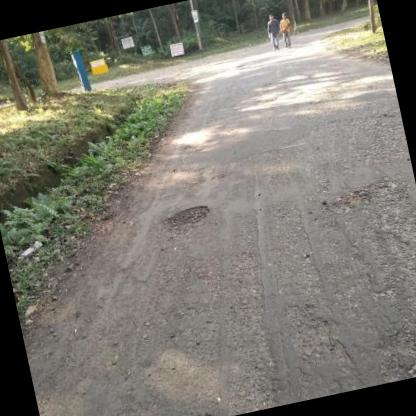pothole: (156, 200, 214, 241), (326, 186, 371, 216)
